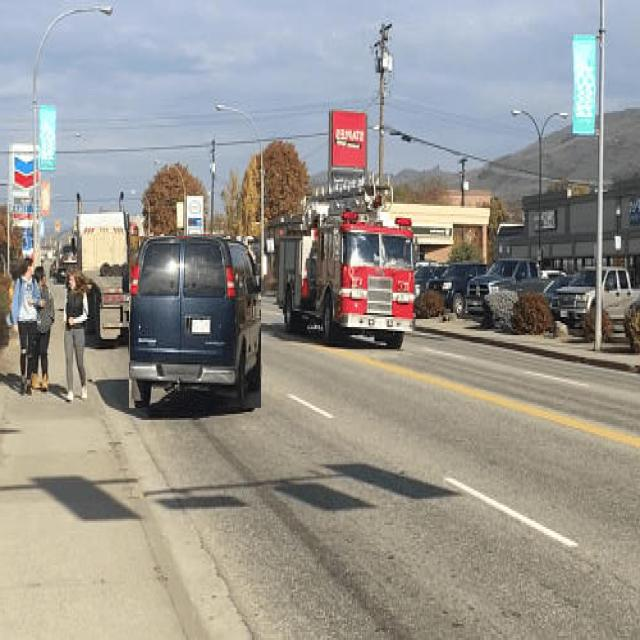car: (129, 236, 261, 408)
emergency: (278, 211, 414, 349)
